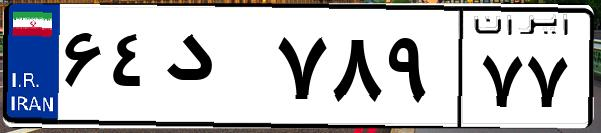4: (110, 28, 158, 98)
6: (57, 26, 110, 100)
7: (270, 28, 330, 110), (475, 38, 525, 113), (525, 38, 570, 115)
8: (330, 28, 385, 110)
9: (385, 28, 445, 110)
د: (158, 20, 270, 120)
